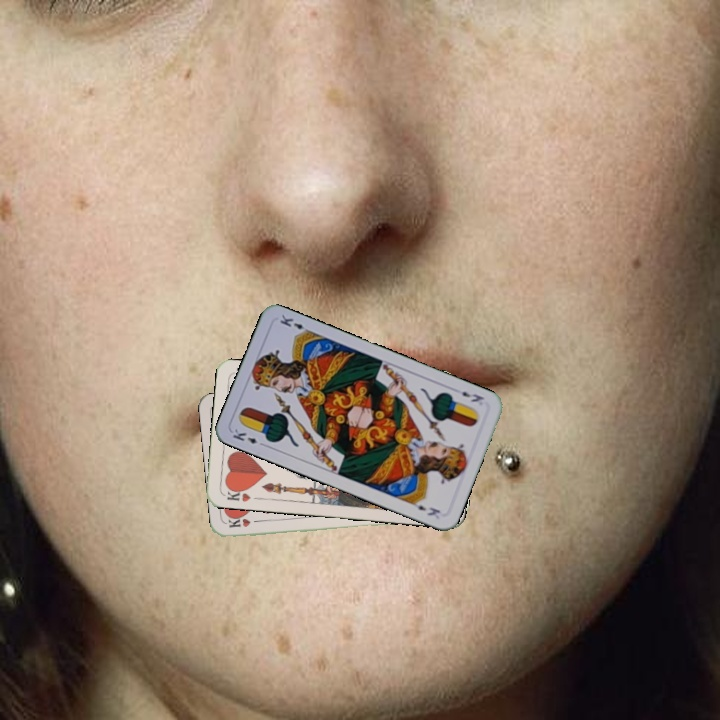EK: (229, 425, 268, 449), (458, 387, 486, 405)
HK: (220, 484, 253, 504), (224, 514, 265, 530)
